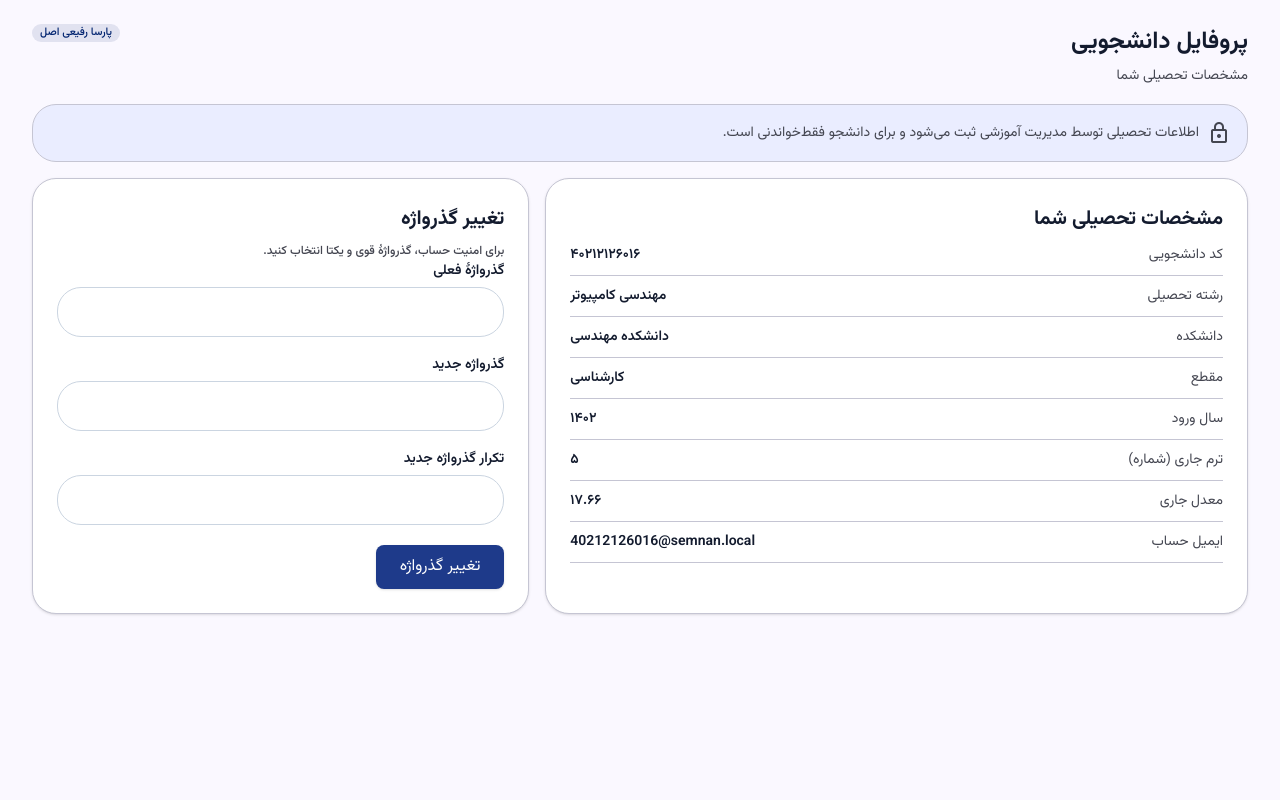
Test case: profile page › rejects a mismatched confirmation client-side without any request
Expected: the text "۴۰۲۱۲۱۲۶۰۱۶" is shown, [570,243,640,267]
In the password field labelled "گذرواژهٔ فعلی": (281, 312) [57,287,504,337], type "Old-Passw0rd!"
In the password field labelled "گذرواژه جدید": (281, 406) [57,381,504,431], type "Br4nd-New-Pass!"
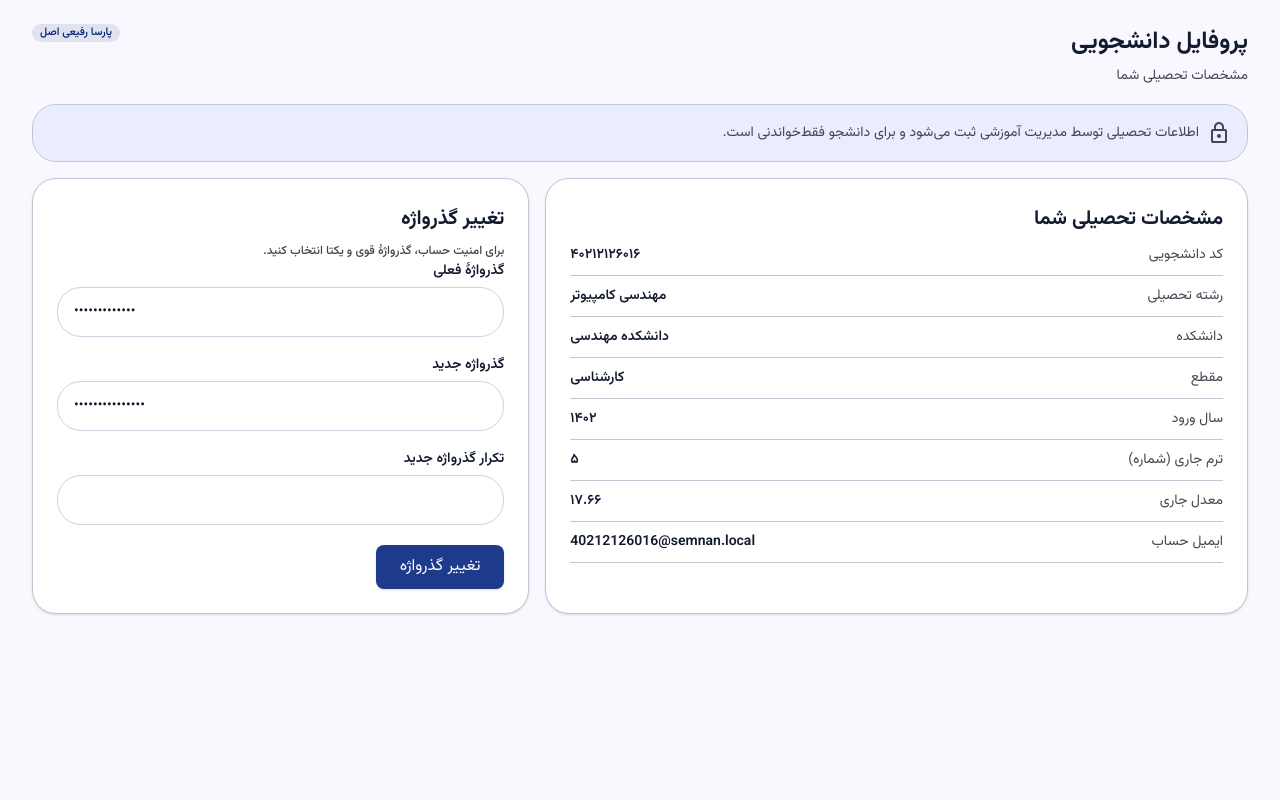
In the password field labelled "تکرار گذرواژه جدید": (281, 500) [57,475,504,525], type "Different-Pass!"
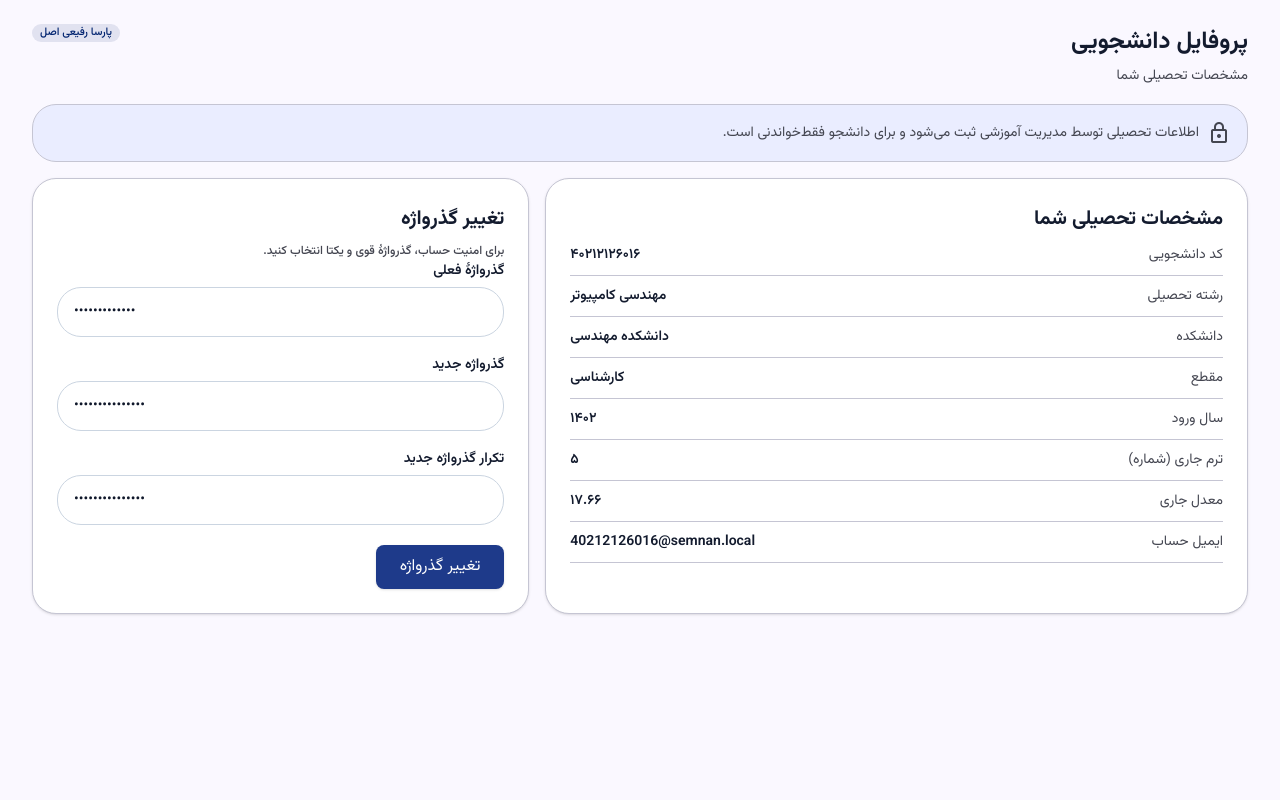
Click the button "تغییر گذرواژه": (440, 567) [376,545,504,589]
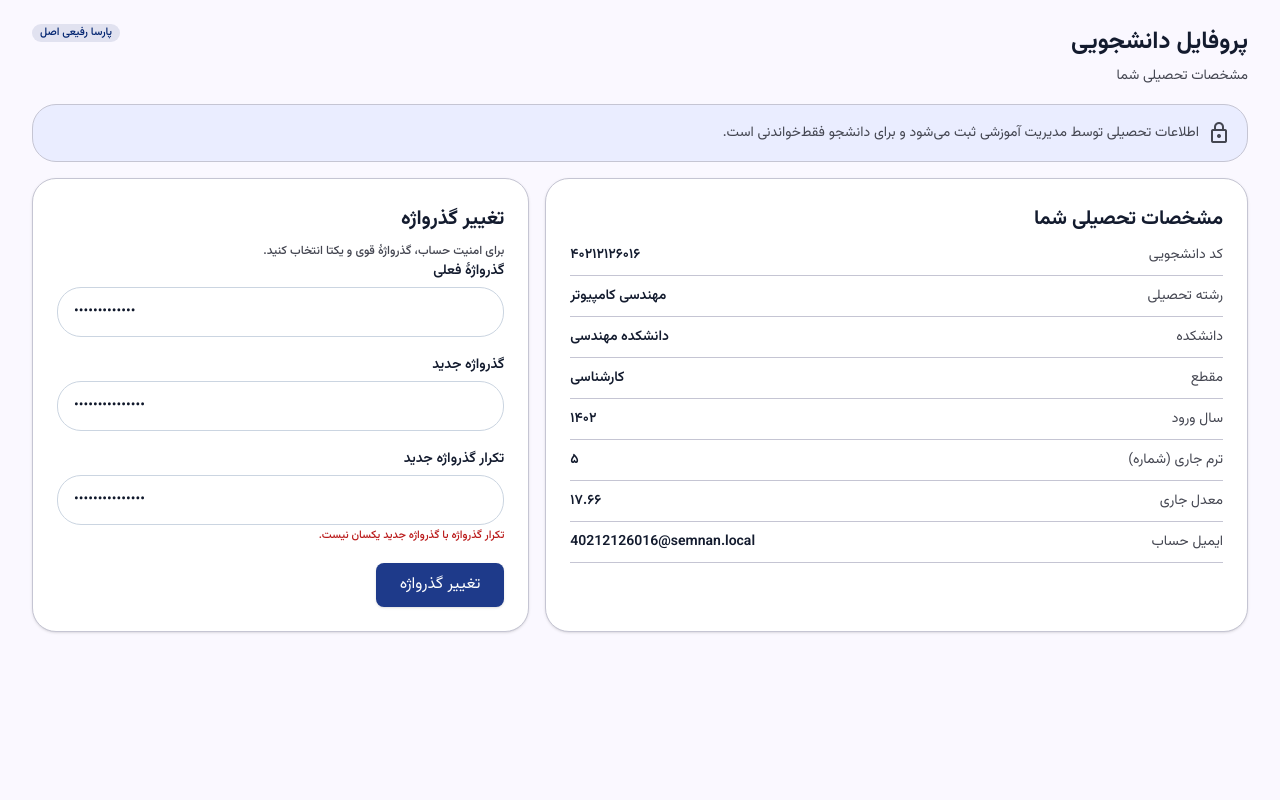
Expected: the text "تکرار گذرواژه با گذرواژه جدید یکسان نیست." is shown, [319,527,504,544]
In the password field labelled "گذرواژه جدید": (281, 406) [57,381,504,431], type "123"
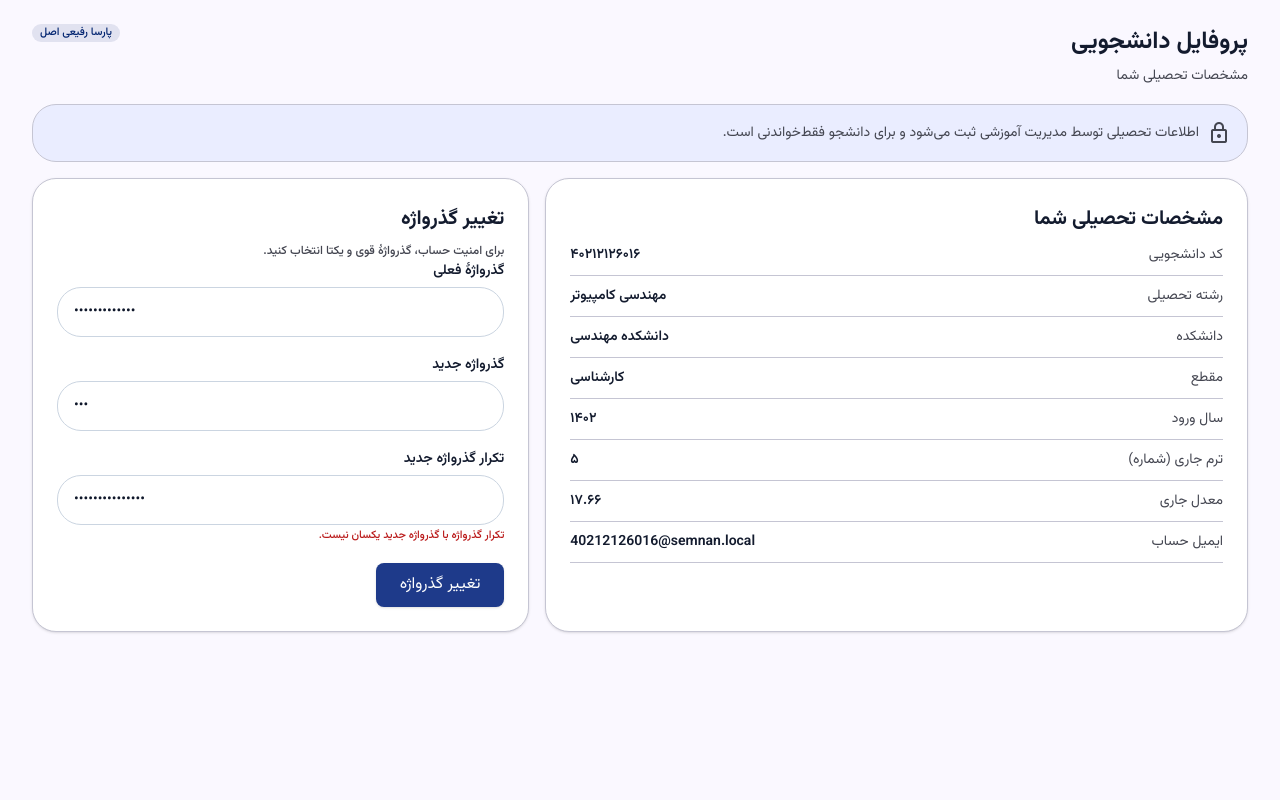
In the password field labelled "تکرار گذرواژه جدید تکرار گذرواژه با گذرواژه جدید یکسان نیست.": (281, 500) [57,475,504,525], type "123"
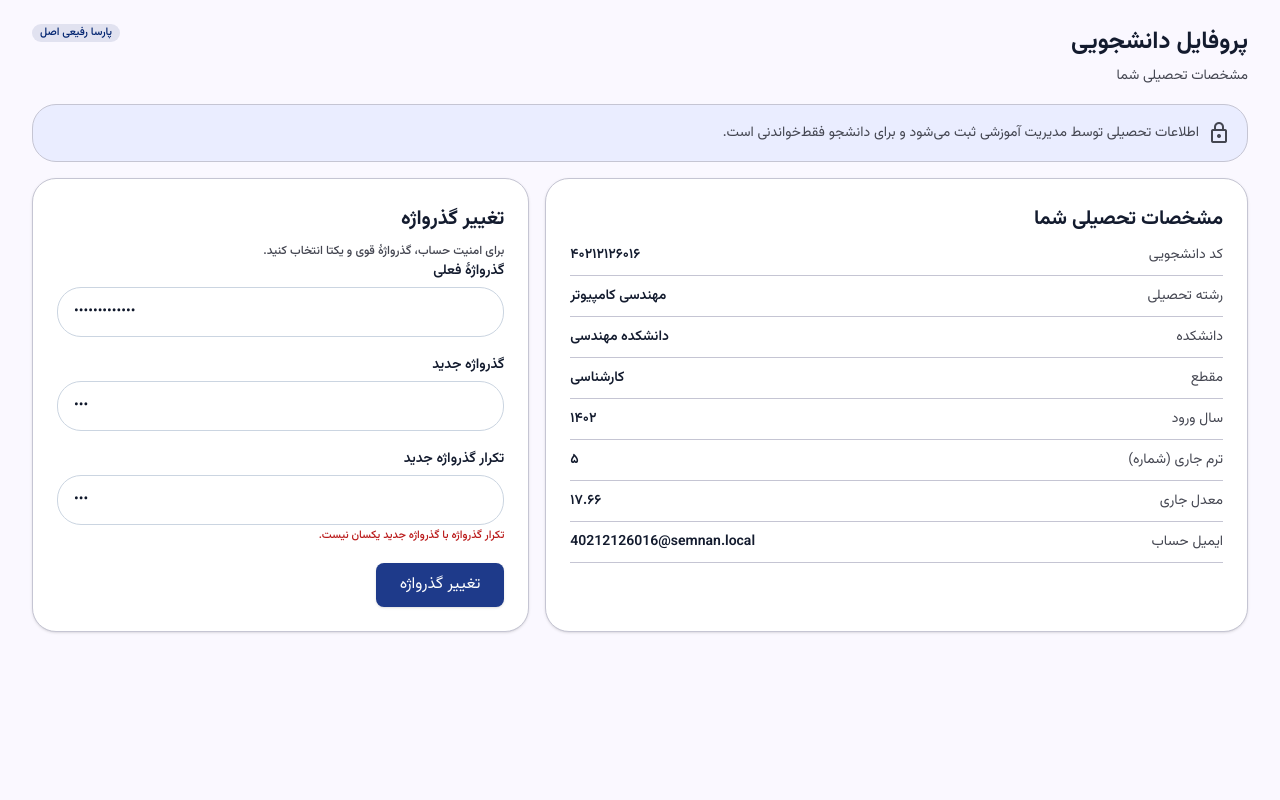
Click the button "تغییر گذرواژه": (440, 585) [376,563,504,607]
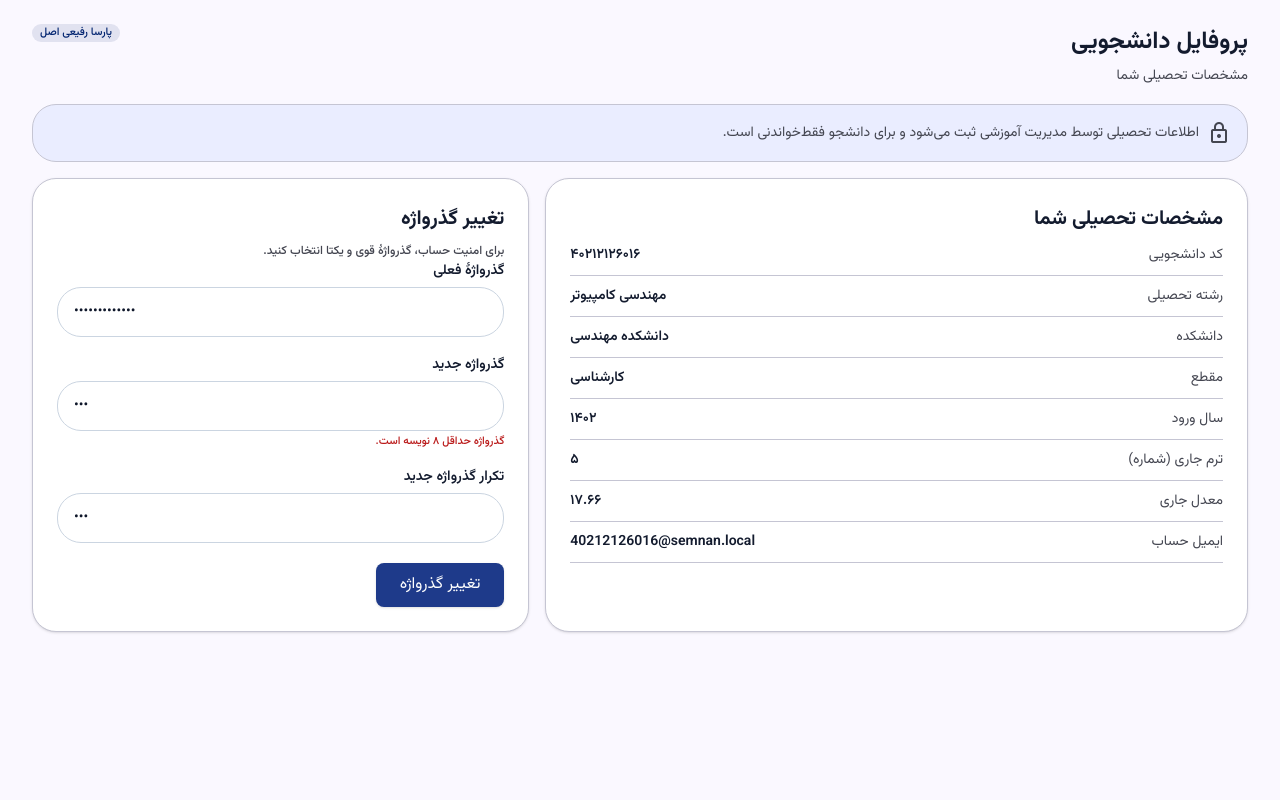
Expected: the text "گذرواژه حداقل ۸ نویسه است." is shown, [376,433,504,450]
